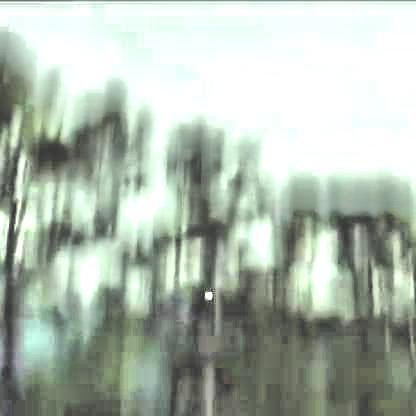golfball: (201, 289, 212, 299)
